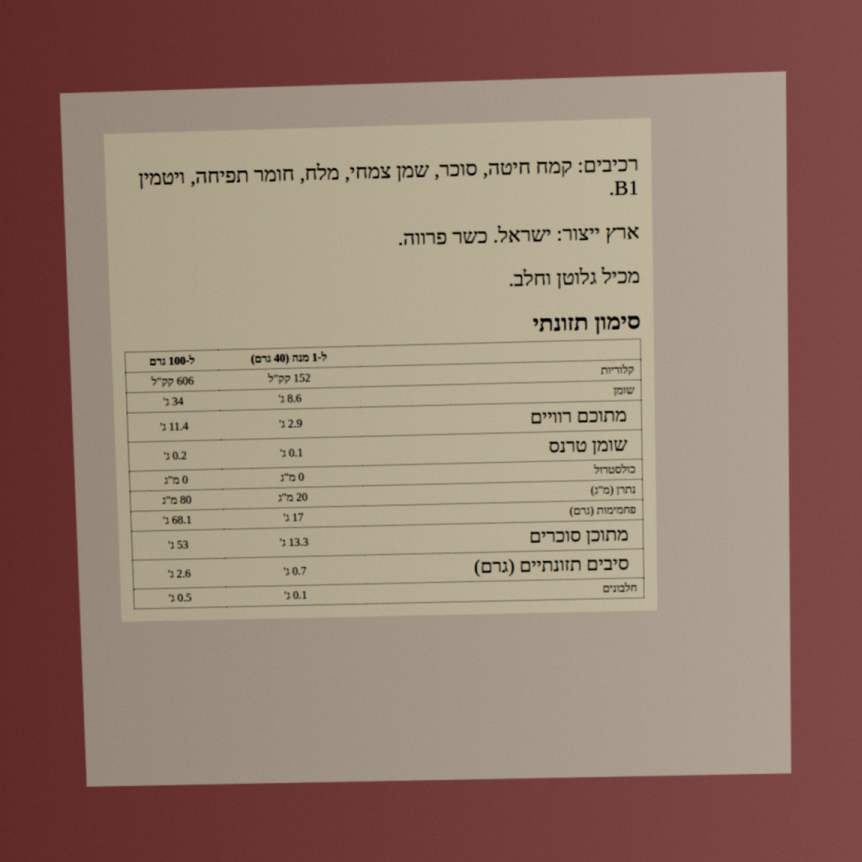carbs: (162, 512, 193, 528)
energy: (150, 373, 195, 389)
fat: (162, 394, 185, 409)
protein: (167, 590, 193, 605)
